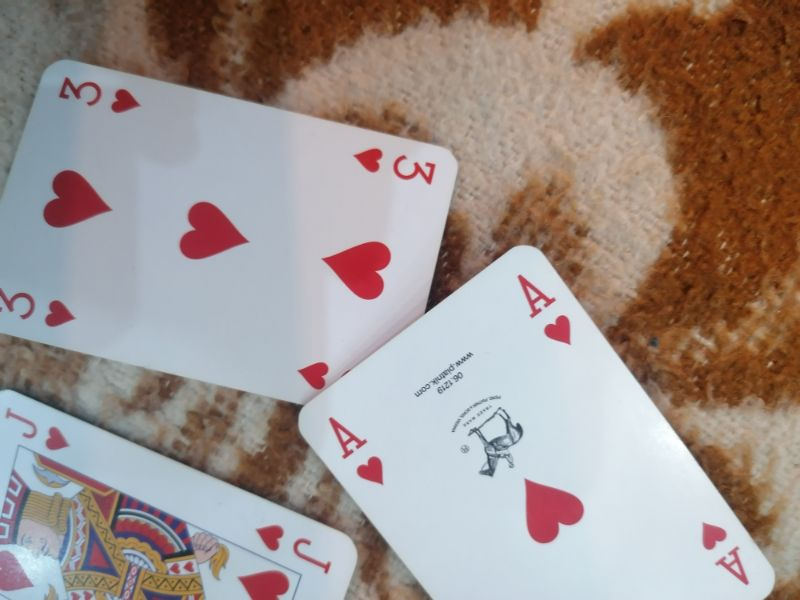3h: (1, 284, 82, 333), (349, 143, 438, 187), (55, 73, 146, 116)
Ah: (511, 269, 578, 347), (323, 414, 390, 489), (698, 518, 753, 589)
Jh: (254, 519, 335, 574), (1, 403, 72, 454)
